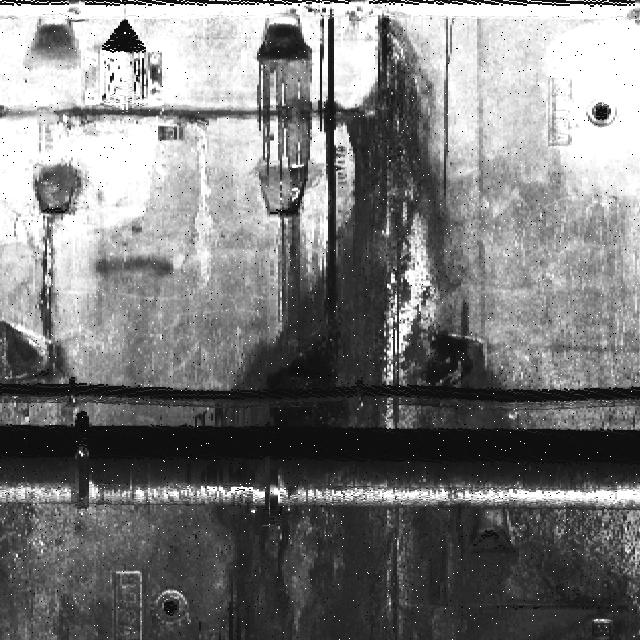leakage: (195, 9, 522, 430), (195, 506, 633, 639), (1, 205, 76, 390)
